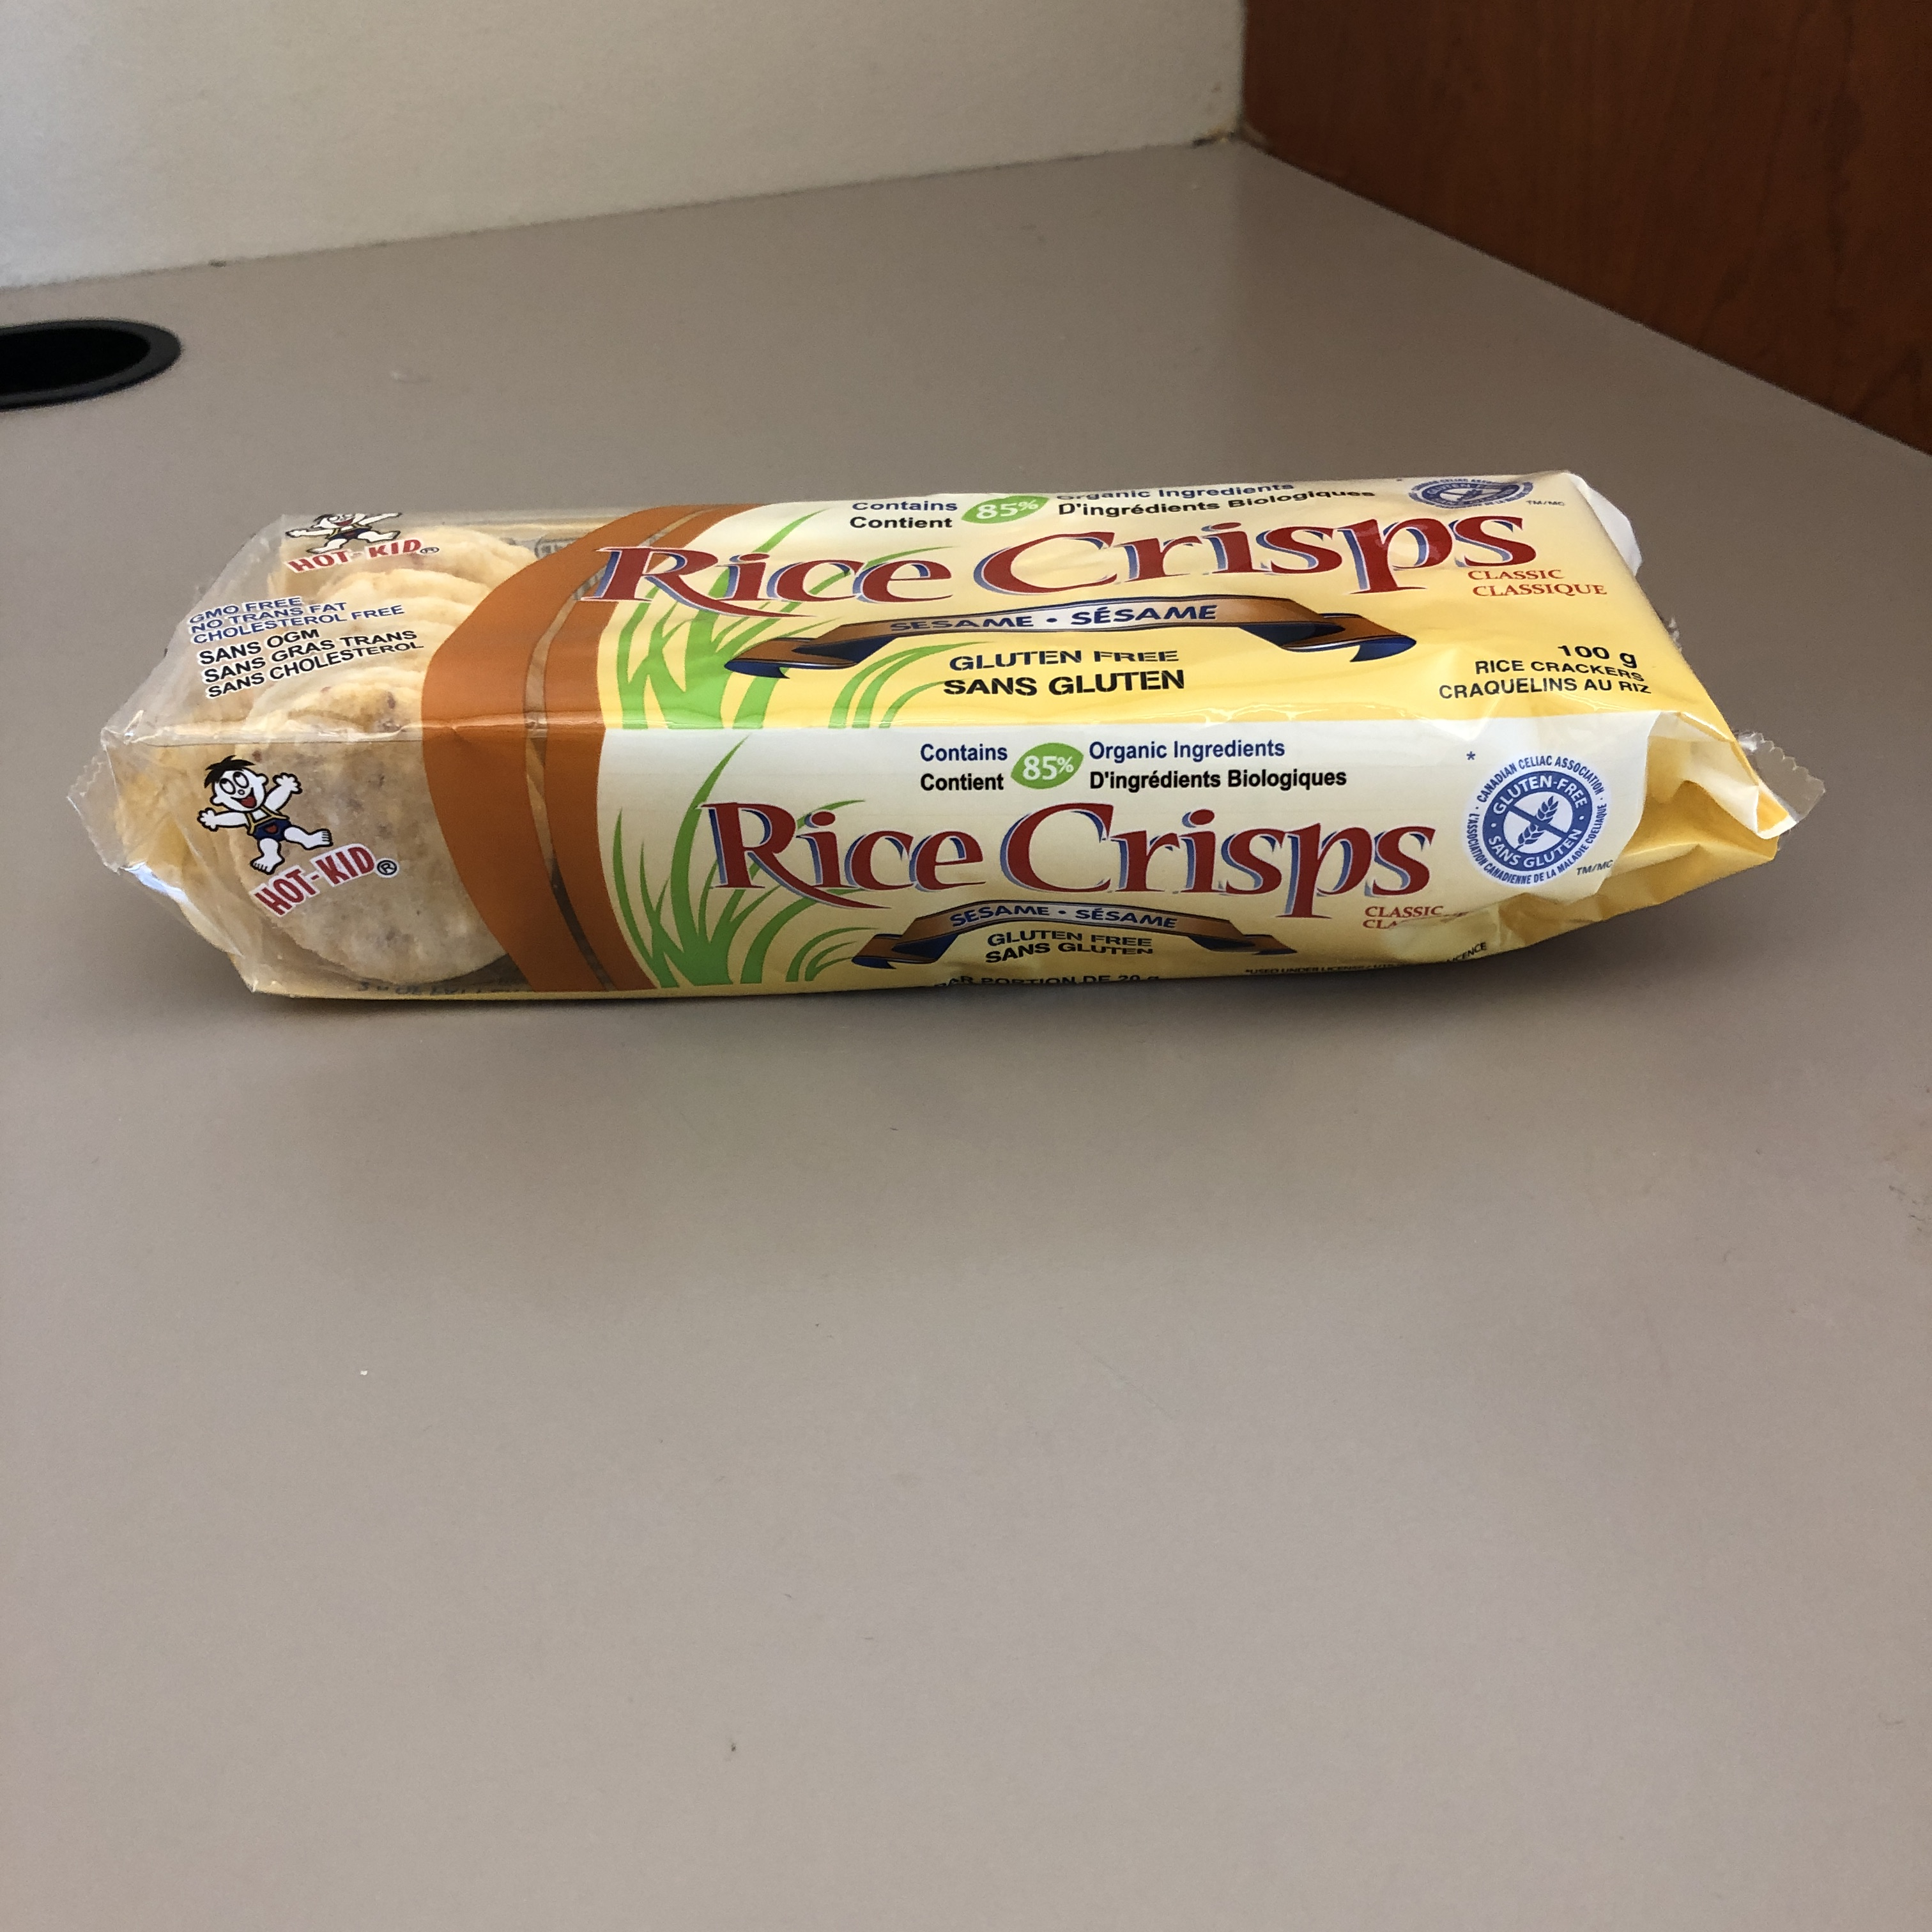hot_kid_rice_crisps_sesame: (459, 172, 1018, 1827)
